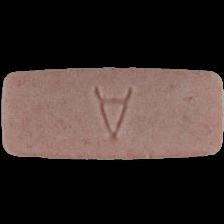60505-2674: (0, 0, 224, 224)
